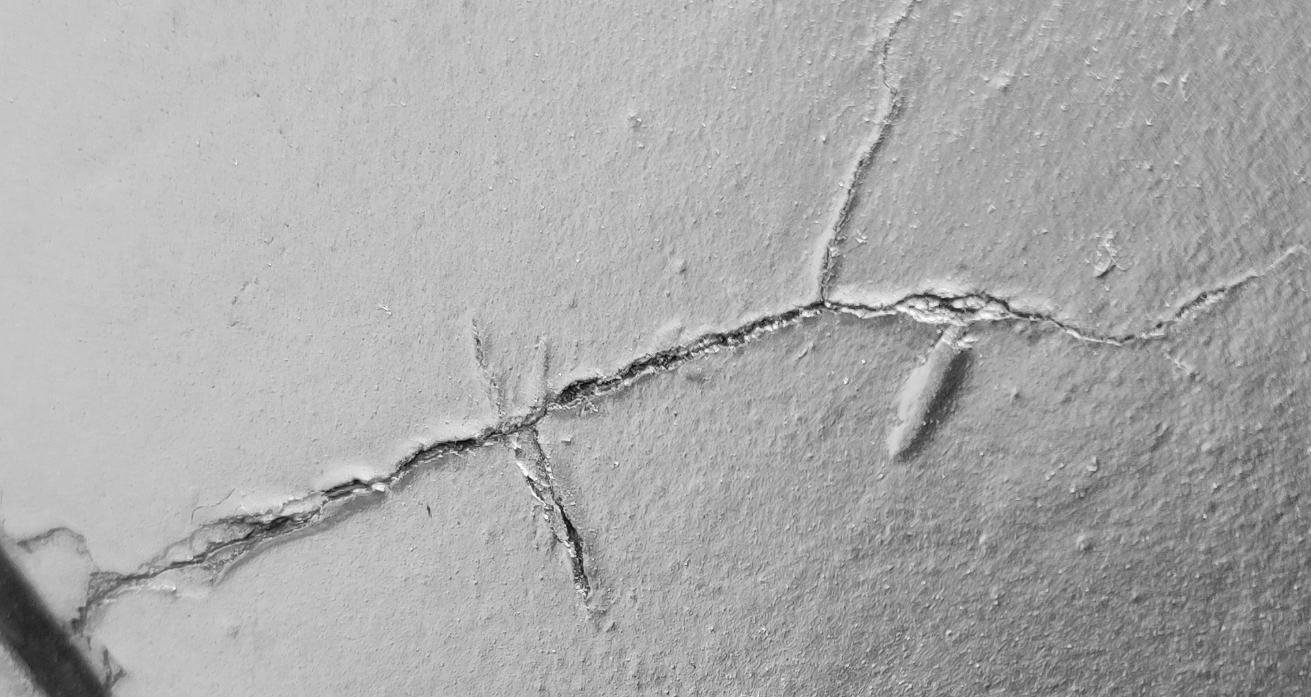crack: (1, 1, 1311, 697)
